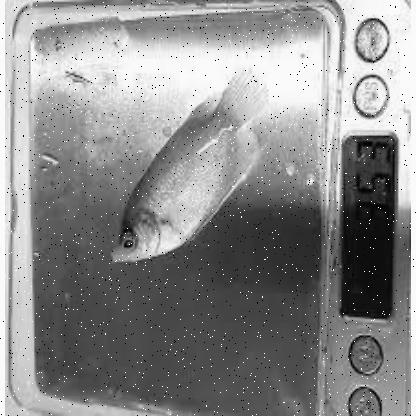gurame: (104, 76, 274, 272)
